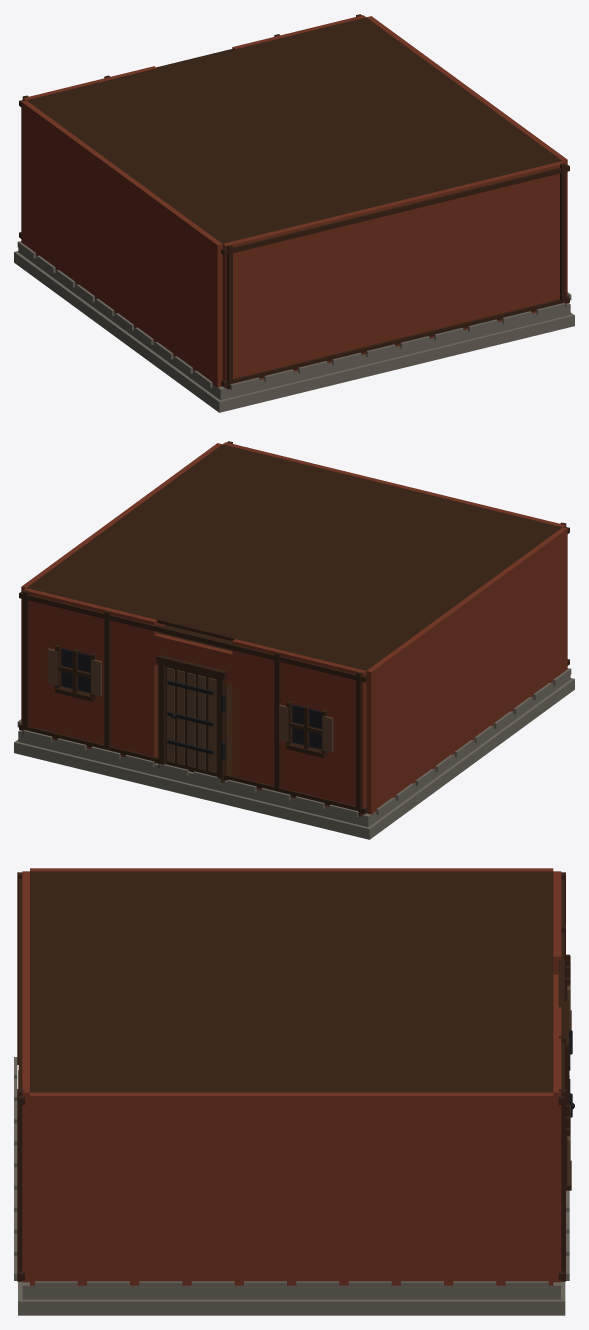
File: GalakasMidCity_LWR_W06D06_BrickCornerBlock_01.obj
The picture shows the model from 3 angles, top to bottom: view 1: azimuth 30°, elevation 25°; view 2: azimuth 150°, elevation 25°; view 3: azimuth 270°, elevation 25°; orthographic projection. The views are drawn at different scales.
Parts seen in each view (by area): view 1: lower_ceiling_cap, lower_back_wall, lower_left_wall, stone_plinth_base, stone_plinth_raised, lower_back_course_534, lower_back_course_89, lower_right_wall, lower_back_post_5_9, lower_back_post_-5_9; view 2: lower_ceiling_cap, lower_left_wall, lower_front_left_wall, lower_front_right_wall, stone_plinth_base, stone_plinth_raised, lower_front_course_534, lower_front_above_door, lower_main_door_slab, lower_front_course_89, lower_right_wall, lower_back_wall (+15 smaller); view 3: lower_ceiling_cap, lower_right_wall, stone_plinth_base, stone_plinth_raised, lower_back_wall, lower_front_right_wall, lower_left_wall, lower_back_course_534, lower_back_post_5_9, lower_front_course_534, lower_front_post_5_9, lower_front_left_wall.
Boxes of the visible parts, left/top/right/bottom form: lower_ceiling_cap: left=26, top=17, right=561, bottom=243; lower_back_wall: left=222, top=161, right=565, bottom=388; lower_left_wall: left=21, top=100, right=222, bottom=387; stone_plinth_base: left=14, top=251, right=574, bottom=412; stone_plinth_raised: left=18, top=241, right=570, bottom=400; lower_back_course_534: left=221, top=164, right=569, bottom=255; lower_back_course_89: left=221, top=296, right=569, bottom=386; lower_right_wall: left=367, top=16, right=567, bottom=296; lower_back_post_5_9: left=559, top=163, right=566, bottom=306; lower_back_post_-5_9: left=226, top=245, right=232, bottom=389; lower_ceiling_cap: left=27, top=444, right=562, bottom=670; lower_left_wall: left=366, top=527, right=567, bottom=814; lower_front_left_wall: left=232, top=639, right=366, bottom=815; lower_front_right_wall: left=23, top=588, right=157, bottom=763; stone_plinth_base: left=14, top=678, right=574, bottom=839; stone_plinth_raised: left=18, top=668, right=570, bottom=827; lower_front_course_534: left=19, top=591, right=367, bottom=682; lower_front_above_door: left=154, top=633, right=232, bottom=683; lower_main_door_slab: left=165, top=665, right=217, bottom=775; lower_front_course_89: left=19, top=723, right=367, bottom=813; lower_right_wall: left=21, top=443, right=221, bottom=723; lower_back_wall: left=223, top=442, right=565, bottom=527; lower_ceiling_cap: left=30, top=871, right=553, bottom=1092; lower_right_wall: left=30, top=1092, right=553, bottom=1285; stone_plinth_base: left=18, top=1070, right=565, bottom=1315; stone_plinth_raised: left=22, top=1282, right=560, bottom=1299; lower_back_wall: left=22, top=871, right=29, bottom=1282; lower_front_right_wall: left=553, top=1007, right=561, bottom=1282; lower_left_wall: left=30, top=868, right=553, bottom=871; lower_back_course_534: left=18, top=879, right=24, bottom=1104; lower_back_post_5_9: left=17, top=1089, right=24, bottom=1281; lower_front_course_534: left=558, top=879, right=564, bottom=1104; lower_front_post_5_9: left=559, top=1089, right=565, bottom=1281; lower_front_left_wall: left=553, top=871, right=561, bottom=974.
Size of the model in its own units: 12.74 by 5.52 by 12.87.
